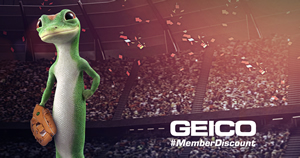Geico: (168, 119, 259, 137)
